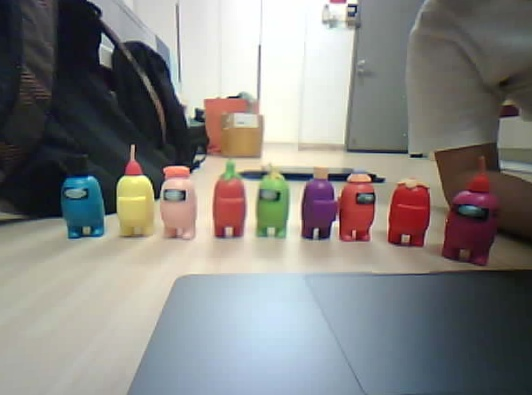alive: (440, 184, 500, 268), (385, 176, 433, 249), (58, 174, 108, 241), (158, 173, 202, 245), (113, 172, 159, 240), (210, 170, 248, 240), (337, 177, 377, 243), (254, 174, 292, 241), (299, 176, 337, 241)
